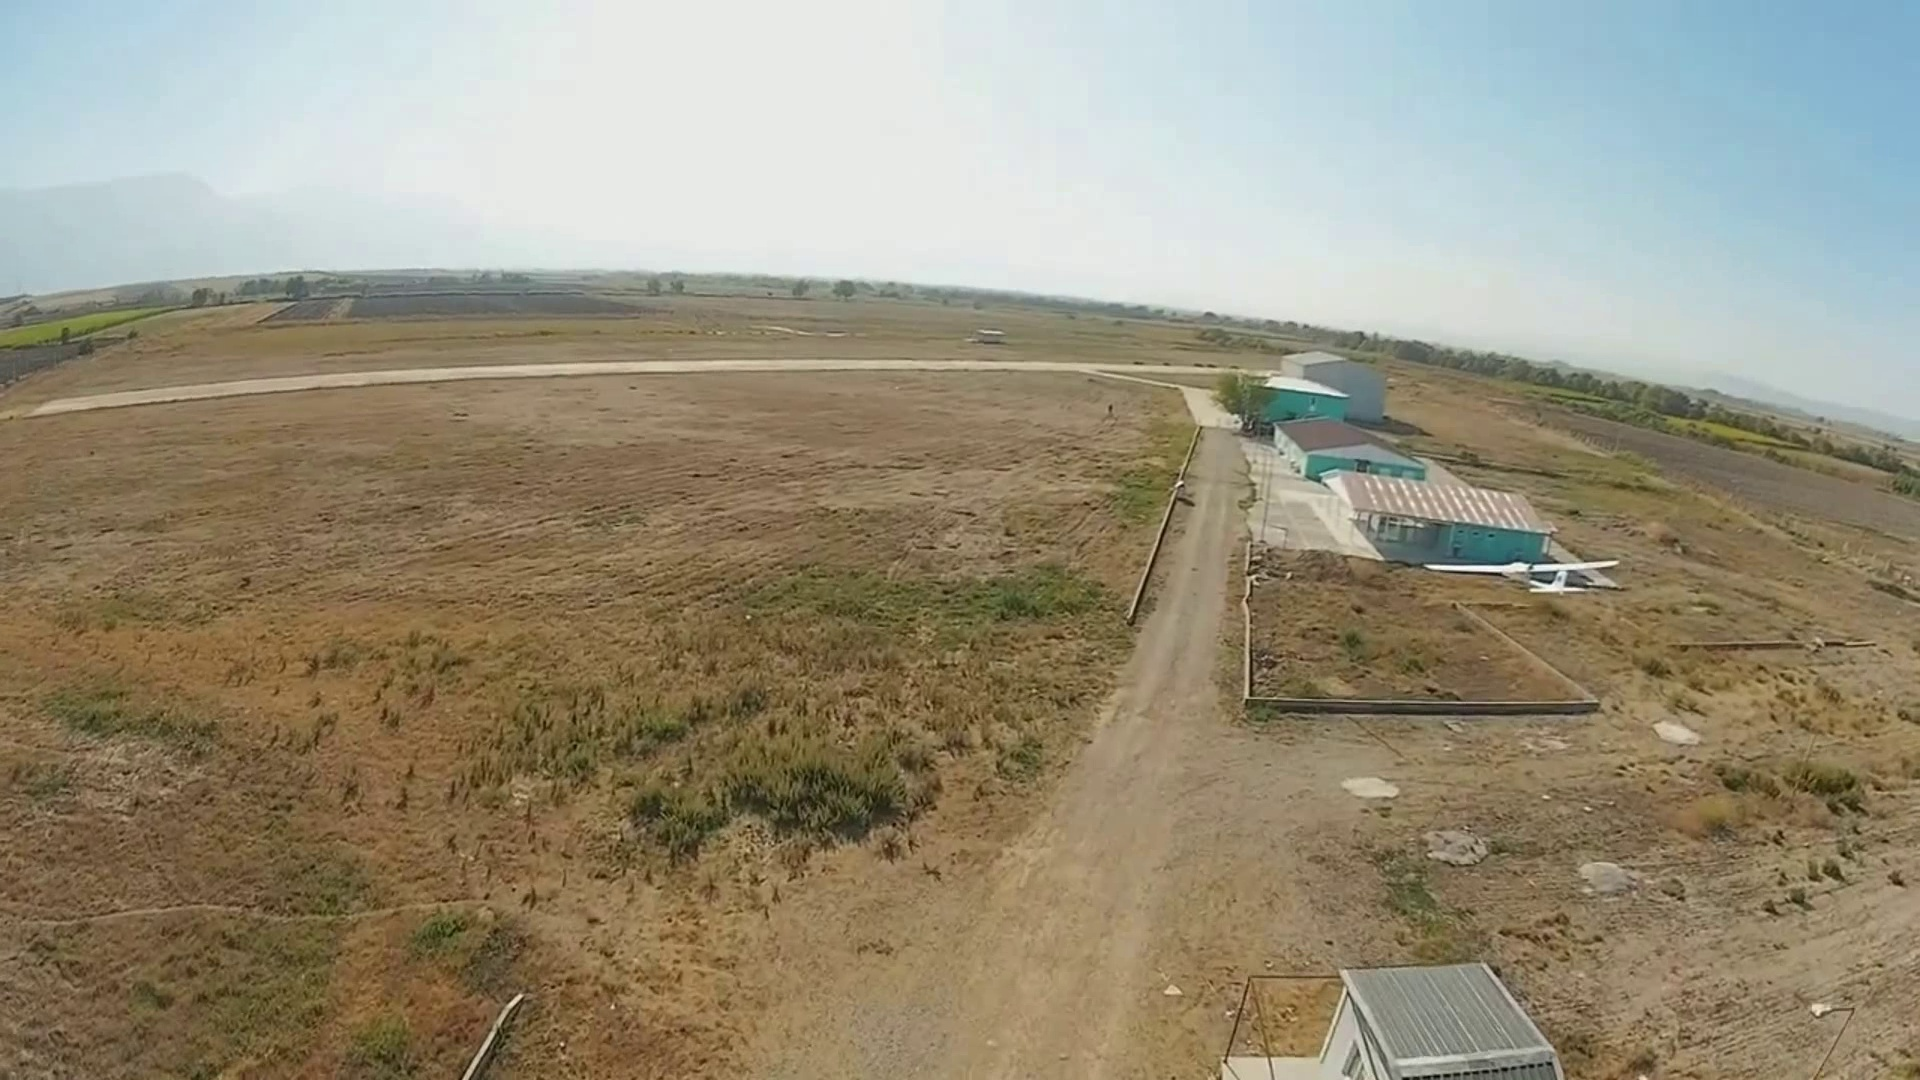airplane: (1223, 364, 1616, 591)
